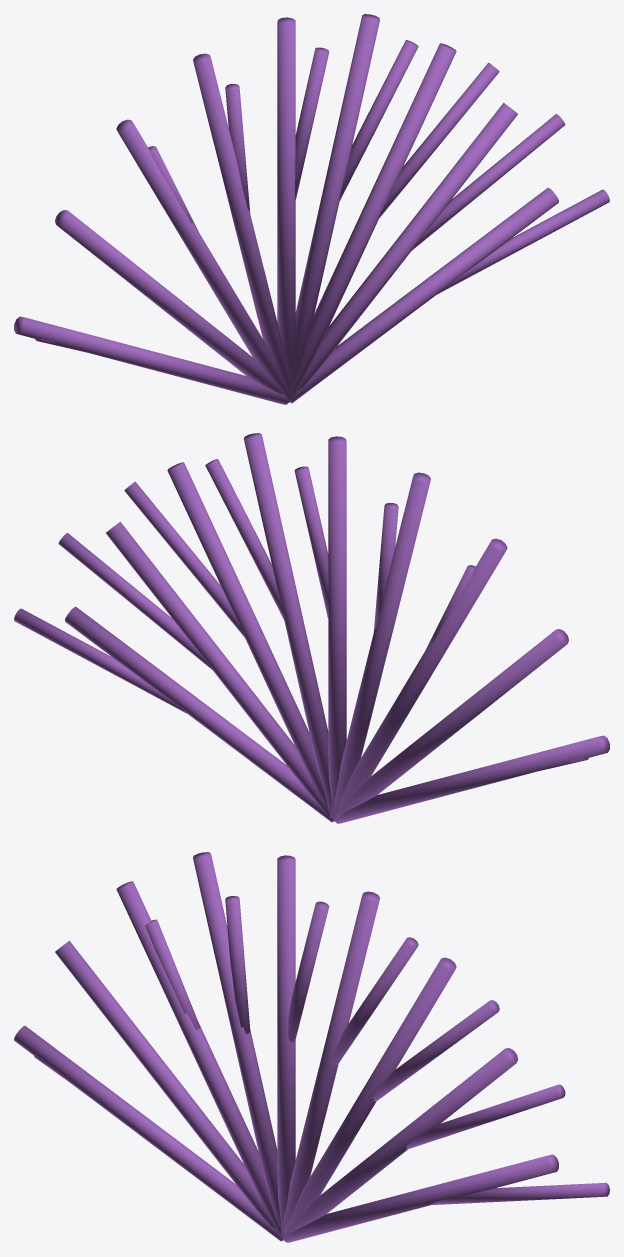
The model's file is fan.glb.
3 renders of one model, top to bottom at view 1: azimuth 30°, elevation 25°; view 2: azimuth 150°, elevation 25°; view 3: azimuth 330°, elevation 25°, orthographic.
Visible parts, largest first — view 1: fan / Coral | violet; view 2: fan / Coral | violet; view 3: fan / Coral | violet.
Part boxes in pixels (box(x1,y1,x2,y2)): fan / Coral | violet: box(14, 14, 609, 404); fan / Coral | violet: box(14, 433, 609, 823); fan / Coral | violet: box(14, 852, 609, 1242).
Size of the model in its own units: 3.3 by 2.04 by 0.09.
